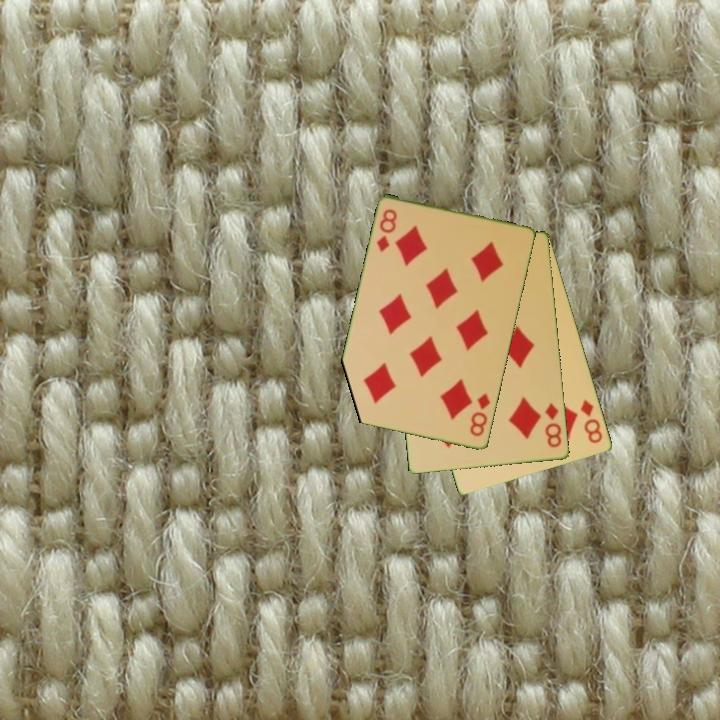8d: (577, 396, 606, 446), (466, 390, 493, 440), (373, 206, 400, 255), (542, 399, 565, 451)
